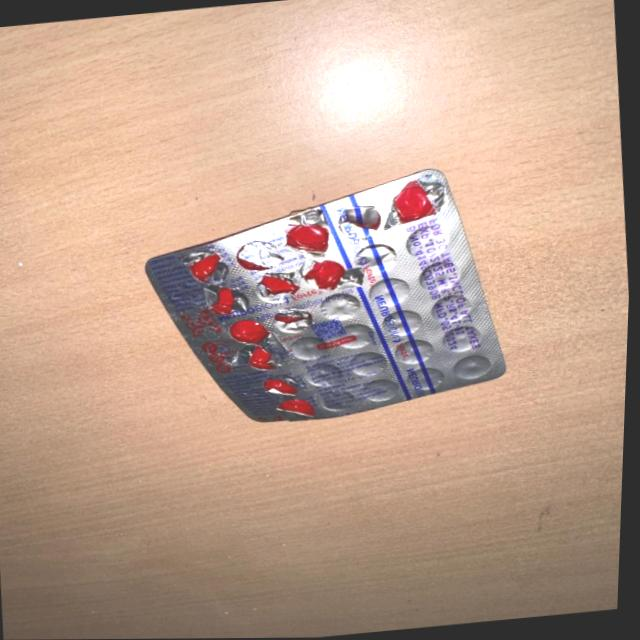medicine: (120, 161, 541, 437)
